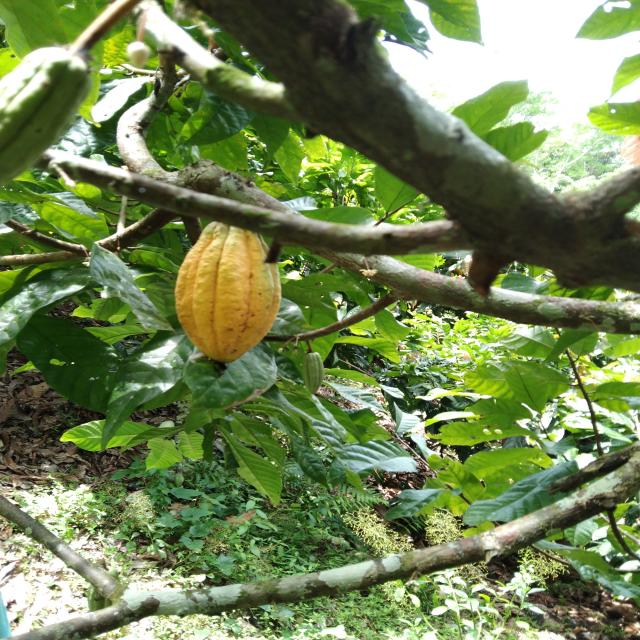Sana: (172, 220, 286, 361), (0, 44, 87, 190), (305, 348, 328, 396)
